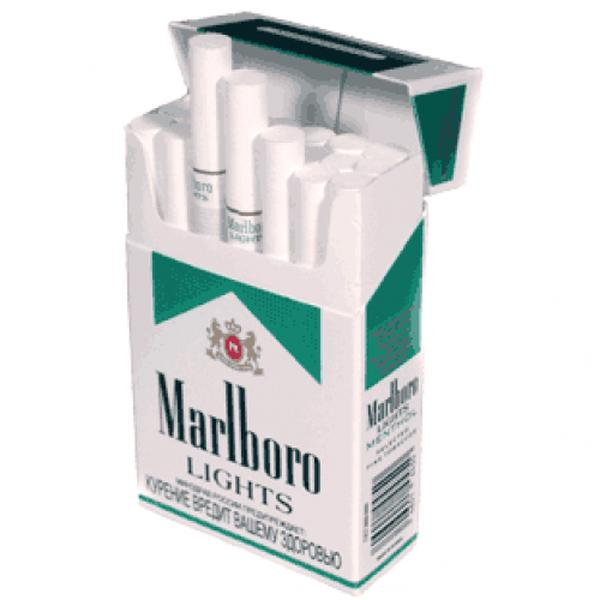marlboro_mentol: (135, 196, 359, 510)
